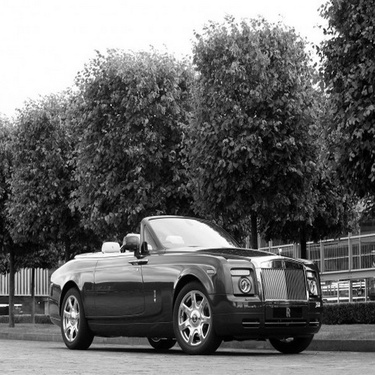car: (42, 207, 323, 355)
